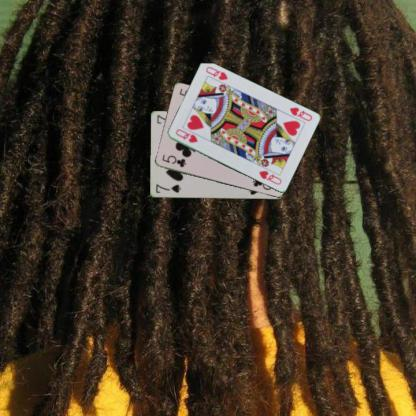5c: (160, 151, 187, 169)
7s: (153, 182, 182, 194)
Qh: (287, 104, 313, 122), (173, 127, 199, 144)
